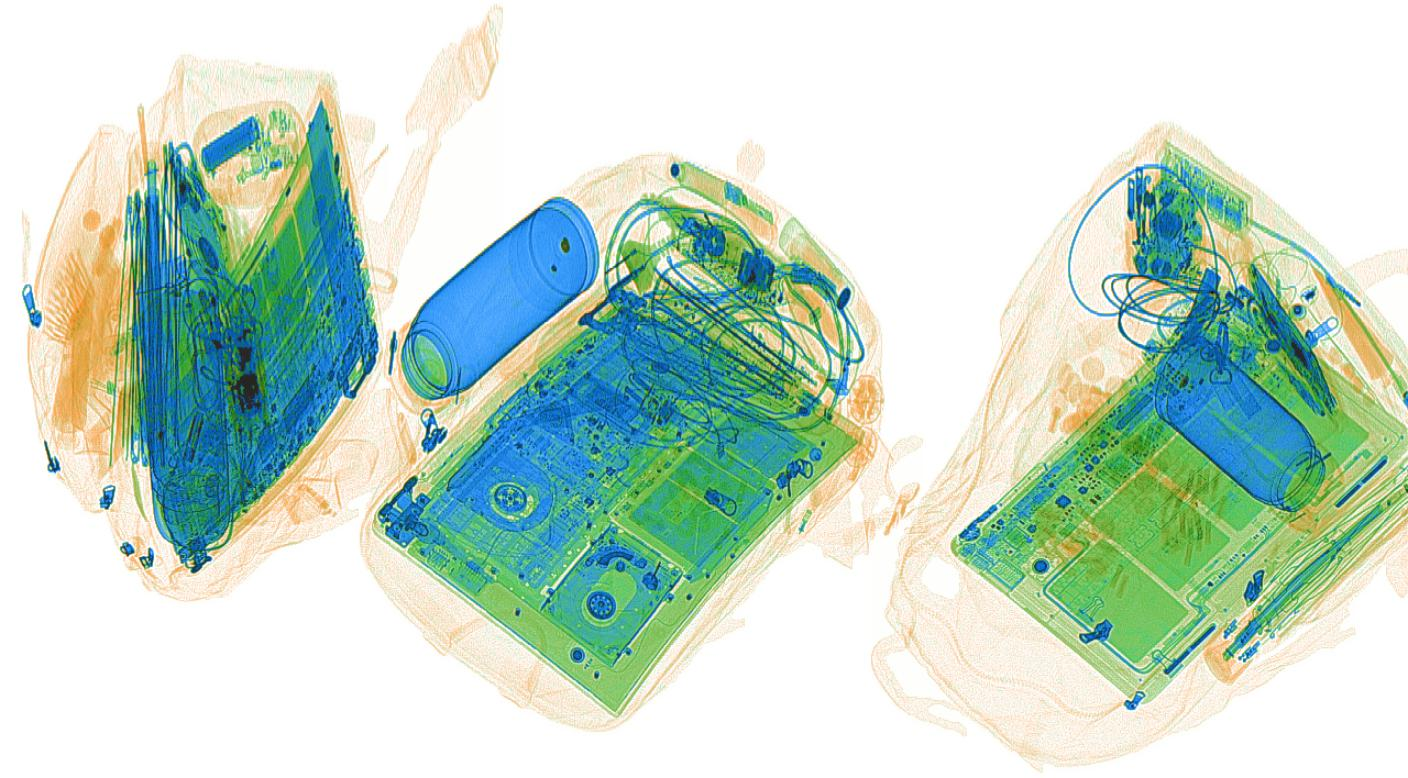USBFlashDisk: (722, 180, 777, 229)
battery: (199, 113, 262, 175), (1178, 265, 1220, 348)
